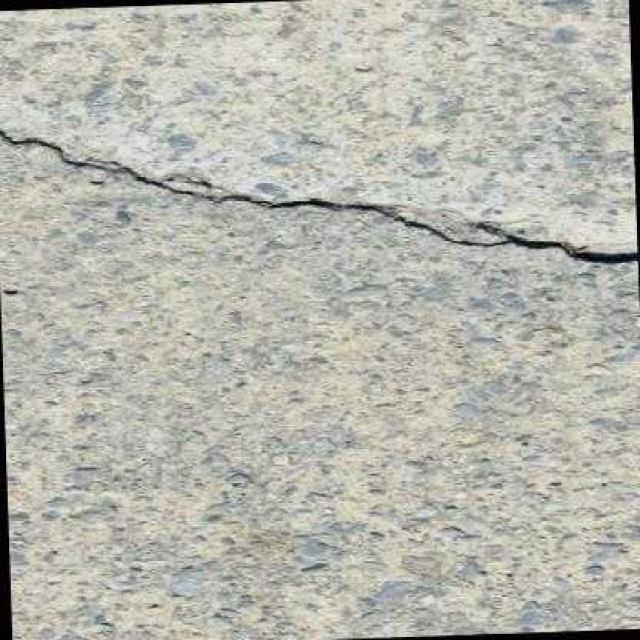D00: (0, 130, 638, 266)
